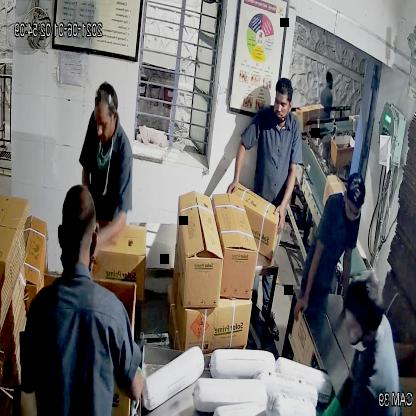no_goggles: (90, 110, 119, 136)
